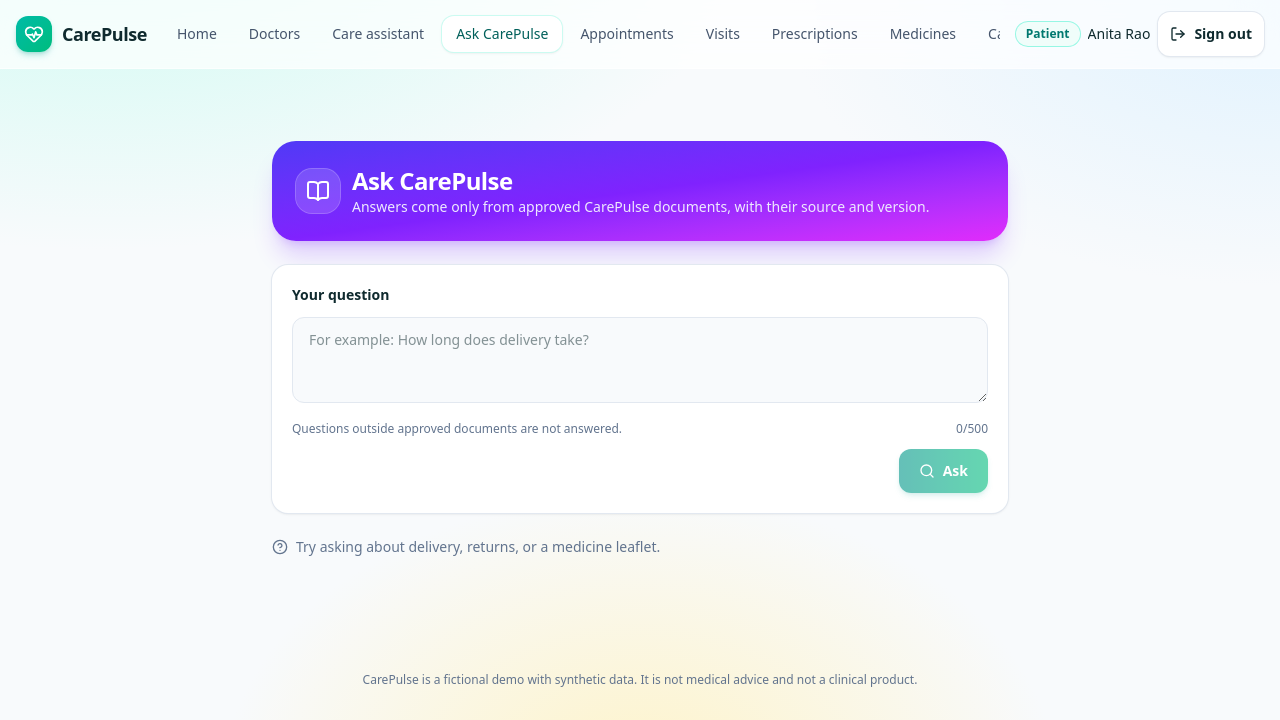
Test case: Ask CarePulse › not-found shows the escalation options and no source chips
Step 1. Type "Does CarePulse cover insurance?" into the text box labelled "Your question" → [640, 360], box [292,317,988,403]
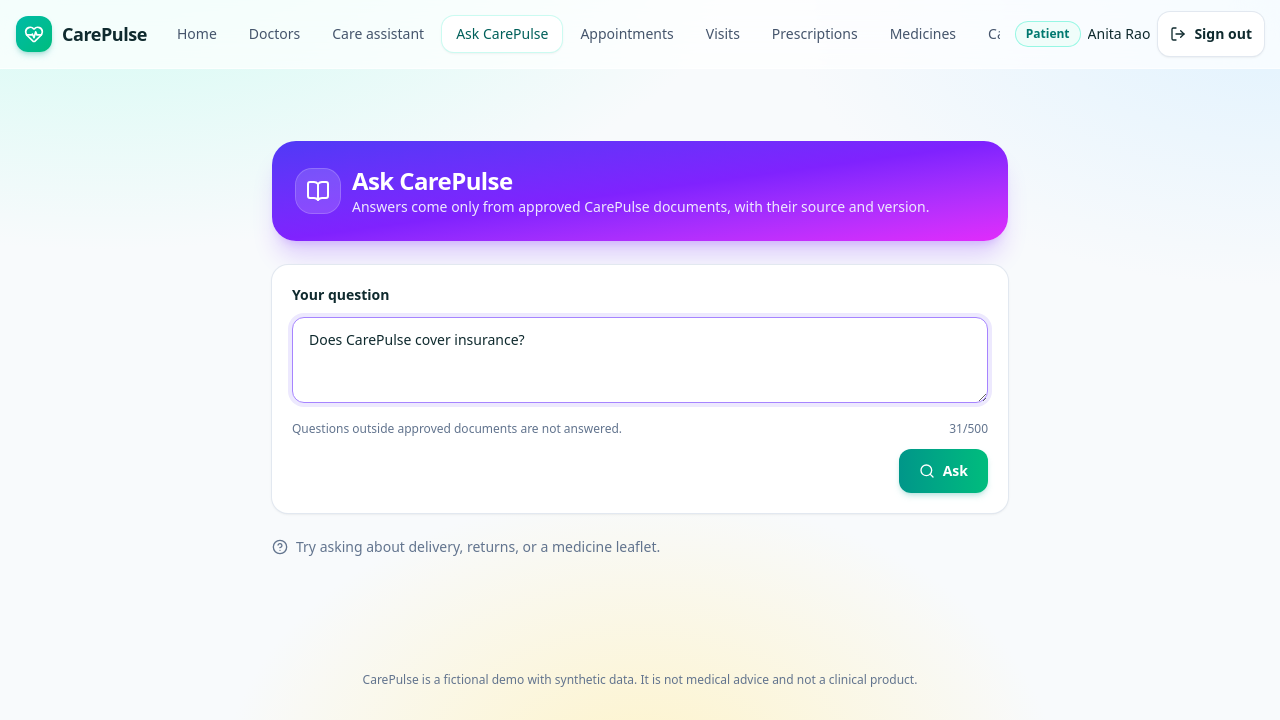
Step 2. Click the button "Ask" → [943, 471], box [899,449,988,493]
(page scrolled)
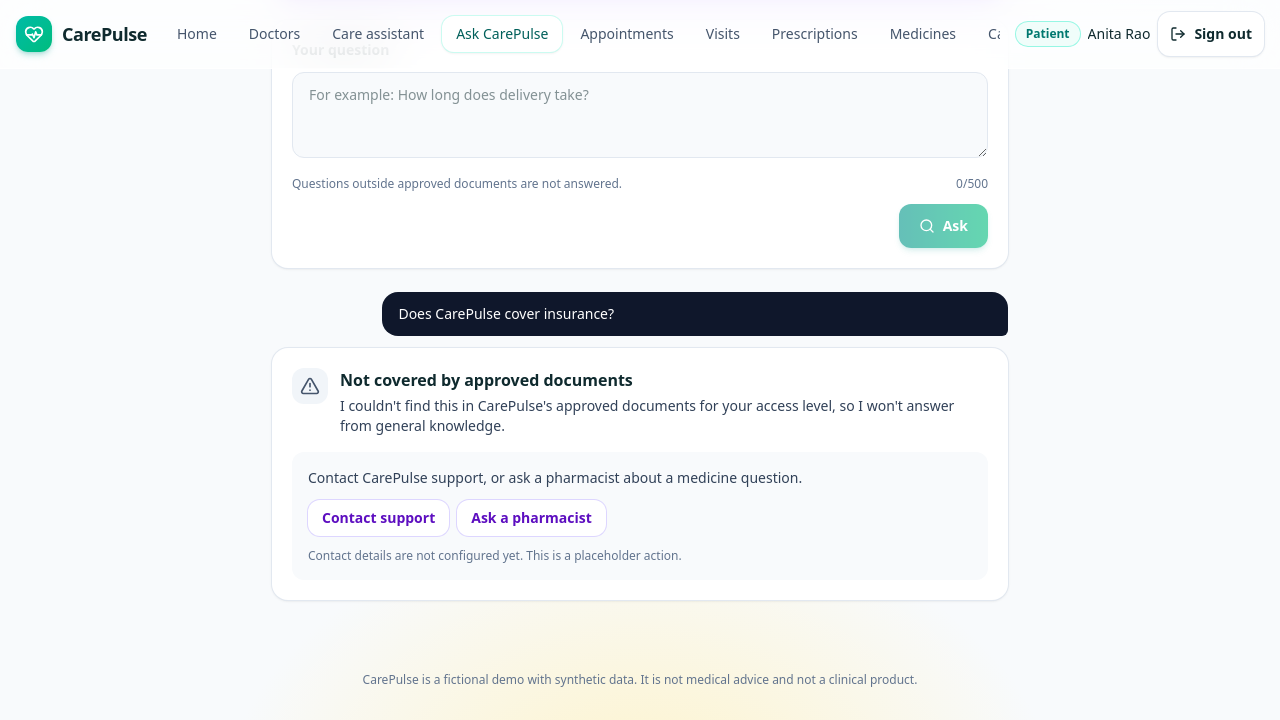
Expected: the text "won't answer from general knowledge" is shown, [340,396,954,435]
Expected: the text "Contact CarePulse support, or ask a pharmacist about a medicine question." is shown, [308,468,802,487]
Expected: the button "Contact support" is shown, [308,500,449,536]
